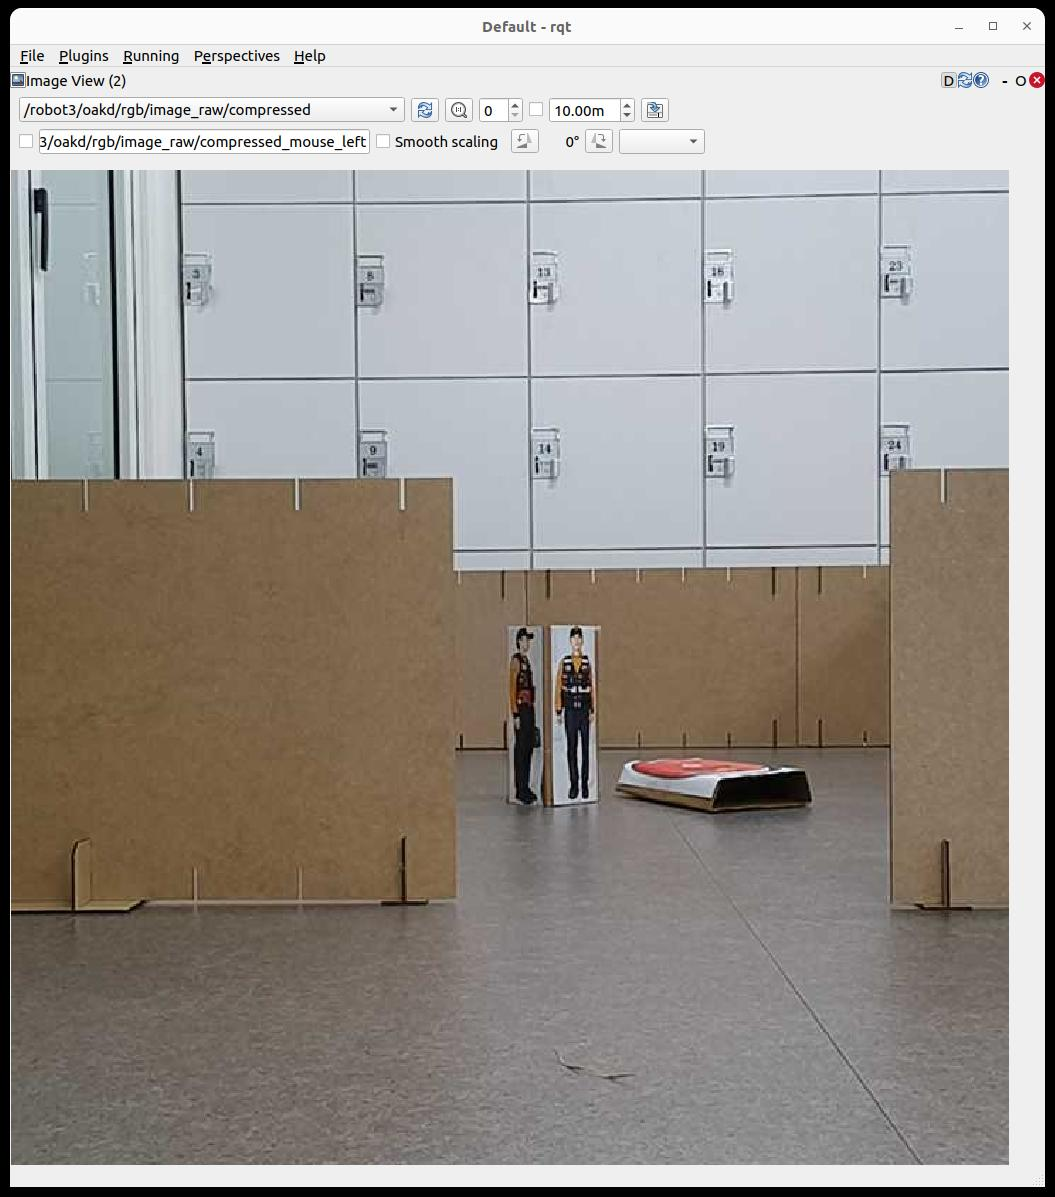AED: (634, 758, 756, 778)
Responder: (555, 627, 594, 800), (510, 627, 536, 803)
